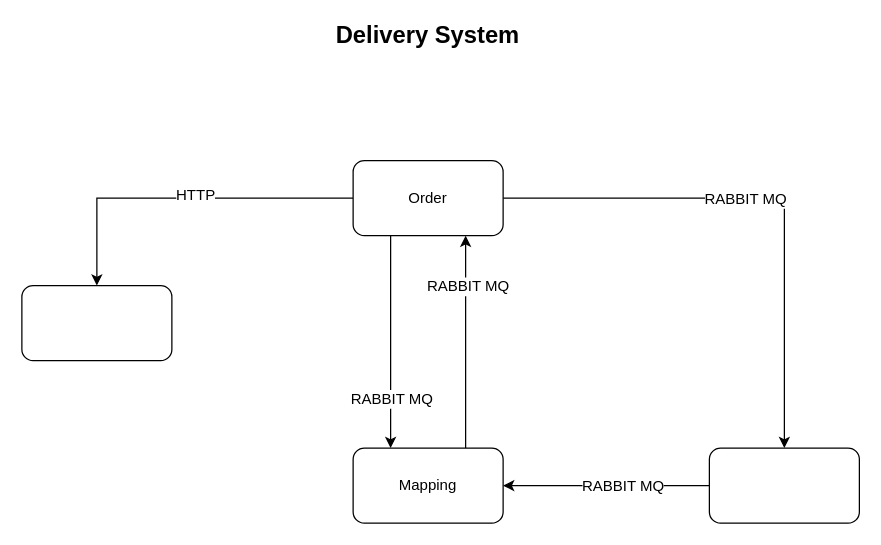
Image size: 881x545. Some labels were removed from this diagram. The centre of each missing label's shape, as x and y in pixels:
Driver: pixel 96 322
Simulator: pixel 783 485
